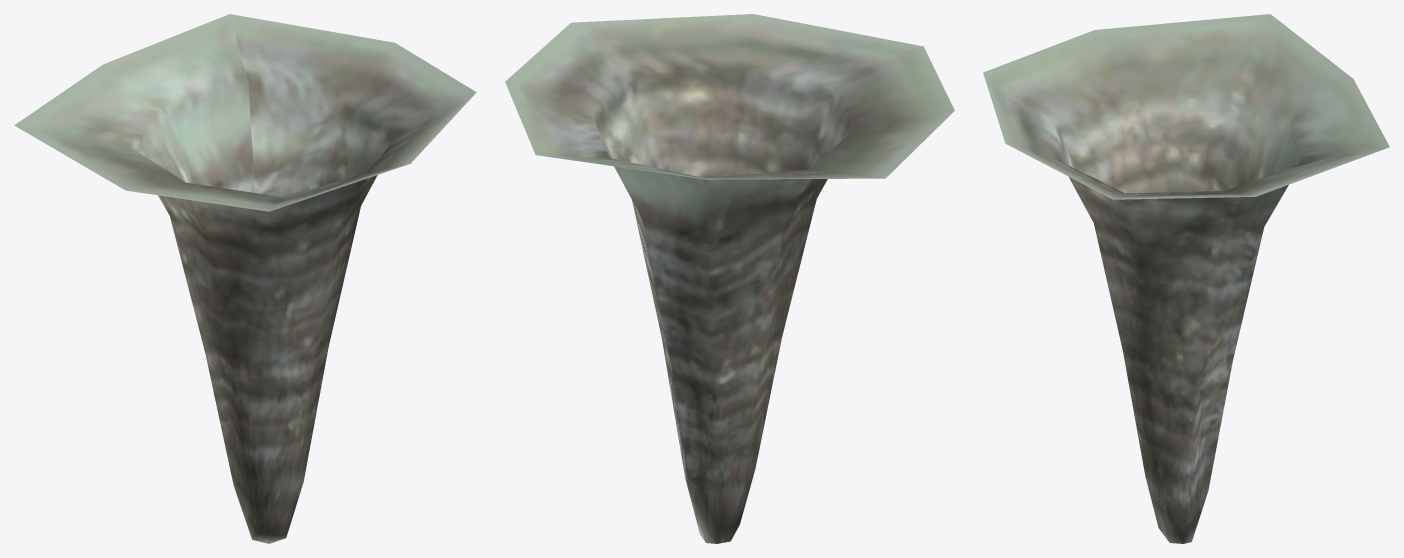
Rendered from TROLLHOLE02_PS-MAINSTALAG77.fbx.
3 views of the same model, side by side, from view 1: azimuth 30°, elevation 25°; view 2: azimuth 150°, elevation 25°; view 3: azimuth 270°, elevation 25° (orthographic). The views are drawn at different scales.
Visible parts, largest first — view 1: TROLLHOLE02_PS-MAINSTALAG77; view 2: TROLLHOLE02_PS-MAINSTALAG77; view 3: TROLLHOLE02_PS-MAINSTALAG77.
Boxes of the visible parts, <box> form: TROLLHOLE02_PS-MAINSTALAG77: <box>14,14,476,543</box>; TROLLHOLE02_PS-MAINSTALAG77: <box>505,14,954,543</box>; TROLLHOLE02_PS-MAINSTALAG77: <box>983,14,1389,543</box>.
Size of the model in its own units: 20880 by 22627 by 19514.
Materials: 1 (1 with a texture image).
